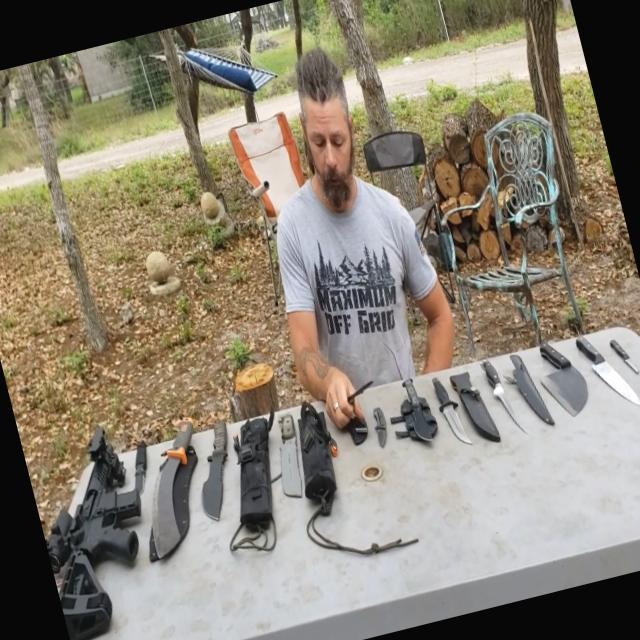knife: (112, 396, 224, 562), (170, 412, 258, 532), (526, 320, 601, 438), (250, 396, 328, 508), (574, 318, 639, 415), (396, 357, 447, 457), (472, 347, 528, 438), (424, 361, 476, 458), (116, 432, 166, 509), (358, 394, 404, 460), (331, 372, 382, 413), (608, 331, 639, 390)
long weapon: (19, 411, 180, 639)
